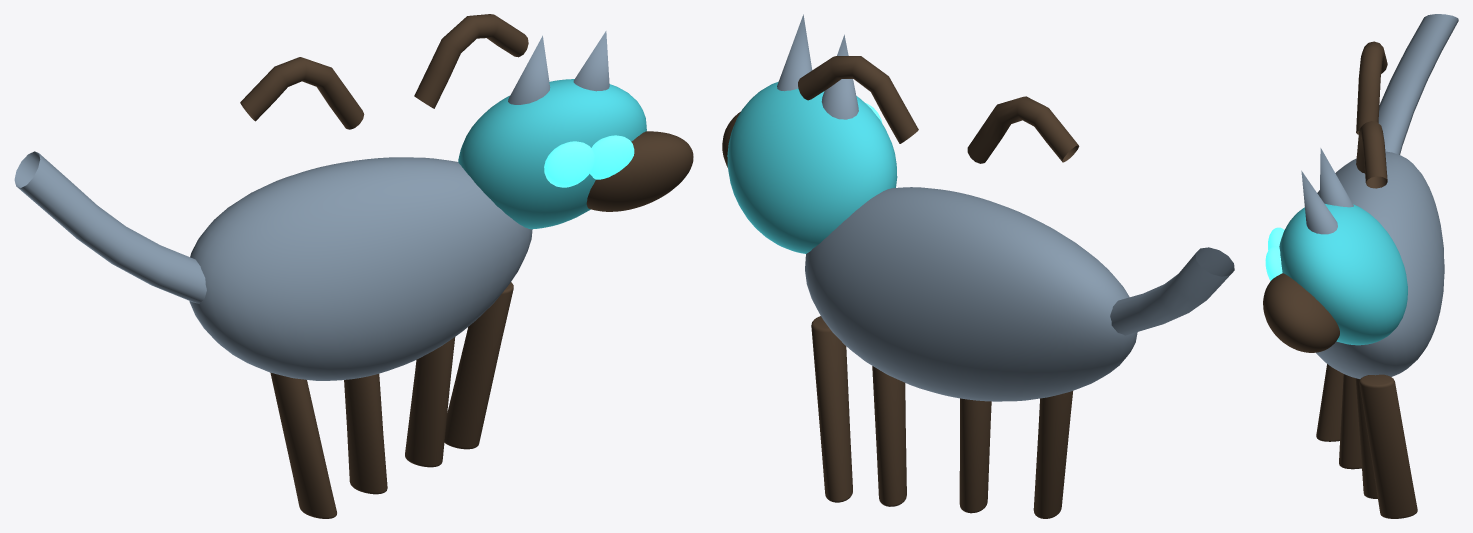
The model's file is quadruped_v8.glb.
3 renders of one model, left to right at view 1: azimuth 30°, elevation 25°; view 2: azimuth 150°, elevation 25°; view 3: azimuth 270°, elevation 25°, orthographic. The views are drawn at different scales.
Visible parts, largest first — view 1: WOLF_BODY_PRIMARY, WOLF_HEAD_ACCENT, WOLF_TAIL_PRIMARY, WOLF_LEG_SECONDARY.003, WOLF_MUZZLE_SECONDARY, WOLF_LEG_SECONDARY, WOLF_LEG_SECONDARY.002, WOLF_LEG_SECONDARY.001, SWEEP_ANTLER_SECONDARY, SWEEP_ANTLER_SECONDARY.001, EYE_EMISSIVE, WOLF_EAR_PRIMARY (+2 smaller); view 2: WOLF_BODY_PRIMARY, WOLF_HEAD_ACCENT, WOLF_LEG_SECONDARY.003, WOLF_TAIL_PRIMARY, WOLF_LEG_SECONDARY.002, WOLF_LEG_SECONDARY, SWEEP_ANTLER_SECONDARY.001, SWEEP_ANTLER_SECONDARY, WOLF_LEG_SECONDARY.001, WOLF_EAR_PRIMARY.001, WOLF_EAR_PRIMARY; view 3: WOLF_BODY_PRIMARY, WOLF_HEAD_ACCENT, WOLF_LEG_SECONDARY.003, WOLF_TAIL_PRIMARY, WOLF_MUZZLE_SECONDARY, SWEEP_ANTLER_SECONDARY, WOLF_LEG_SECONDARY.001, SWEEP_ANTLER_SECONDARY.001, WOLF_LEG_SECONDARY, WOLF_EAR_PRIMARY.001, WOLF_LEG_SECONDARY.002, WOLF_EAR_PRIMARY (+2 smaller).
Boxes of the visible parts, x1,y1,x2,y2 form: WOLF_BODY_PRIMARY: [189, 157, 532, 380]; WOLF_HEAD_ACCENT: [458, 79, 646, 229]; WOLF_TAIL_PRIMARY: [14, 151, 206, 303]; WOLF_LEG_SECONDARY.003: [444, 282, 513, 449]; WOLF_MUZZLE_SECONDARY: [586, 131, 693, 211]; WOLF_LEG_SECONDARY: [270, 372, 336, 518]; WOLF_LEG_SECONDARY.002: [405, 337, 455, 467]; WOLF_LEG_SECONDARY.001: [344, 374, 387, 494]; SWEEP_ANTLER_SECONDARY: [240, 57, 364, 129]; SWEEP_ANTLER_SECONDARY.001: [414, 14, 528, 108]; EYE_EMISSIVE: [544, 141, 594, 187]; WOLF_EAR_PRIMARY: [508, 35, 550, 104]; WOLF_BODY_PRIMARY: [805, 187, 1137, 401]; WOLF_HEAD_ACCENT: [727, 81, 897, 253]; WOLF_LEG_SECONDARY.003: [811, 316, 852, 502]; WOLF_TAIL_PRIMARY: [1110, 247, 1234, 335]; WOLF_LEG_SECONDARY.002: [872, 366, 906, 506]; WOLF_LEG_SECONDARY: [1033, 391, 1072, 518]; SWEEP_ANTLER_SECONDARY.001: [798, 56, 918, 143]; SWEEP_ANTLER_SECONDARY: [967, 96, 1079, 163]; WOLF_LEG_SECONDARY.001: [959, 398, 991, 513]; WOLF_EAR_PRIMARY.001: [777, 14, 812, 91]; WOLF_EAR_PRIMARY: [821, 34, 858, 119]; WOLF_BODY_PRIMARY: [1316, 151, 1444, 378]; WOLF_HEAD_ACCENT: [1279, 204, 1407, 345]; WOLF_LEG_SECONDARY.003: [1359, 374, 1417, 518]; WOLF_TAIL_PRIMARY: [1378, 14, 1458, 154]; WOLF_MUZZLE_SECONDARY: [1263, 273, 1339, 352]; SWEEP_ANTLER_SECONDARY: [1356, 41, 1387, 134]; WOLF_LEG_SECONDARY.001: [1339, 374, 1361, 469]; SWEEP_ANTLER_SECONDARY.001: [1356, 121, 1387, 188]; WOLF_LEG_SECONDARY: [1316, 364, 1343, 441]; WOLF_EAR_PRIMARY.001: [1301, 170, 1337, 234]; WOLF_LEG_SECONDARY.002: [1355, 378, 1377, 498]; WOLF_EAR_PRIMARY: [1319, 148, 1353, 207].
Bounding box in the file's own units: 2.51 × 1.77 × 0.8024.
